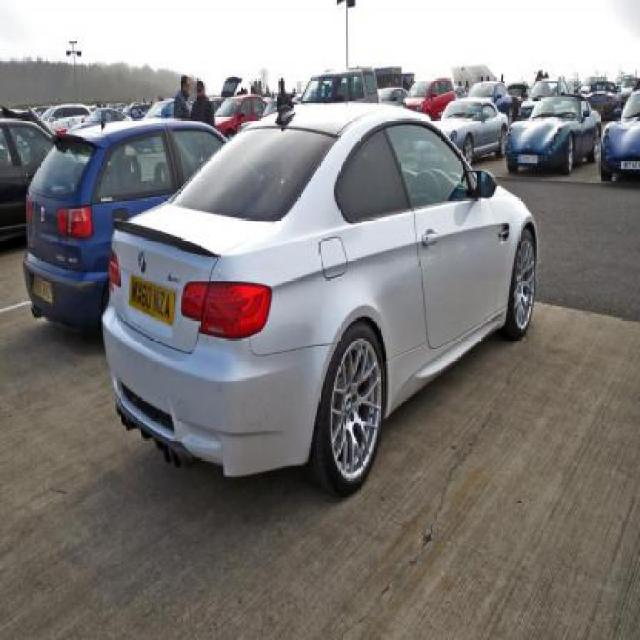License-Plates: (129, 274, 176, 326), (33, 274, 54, 307)
